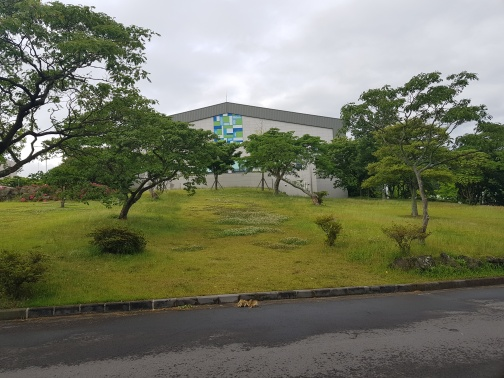Gym: (171, 100, 343, 189), (212, 112, 244, 145)
